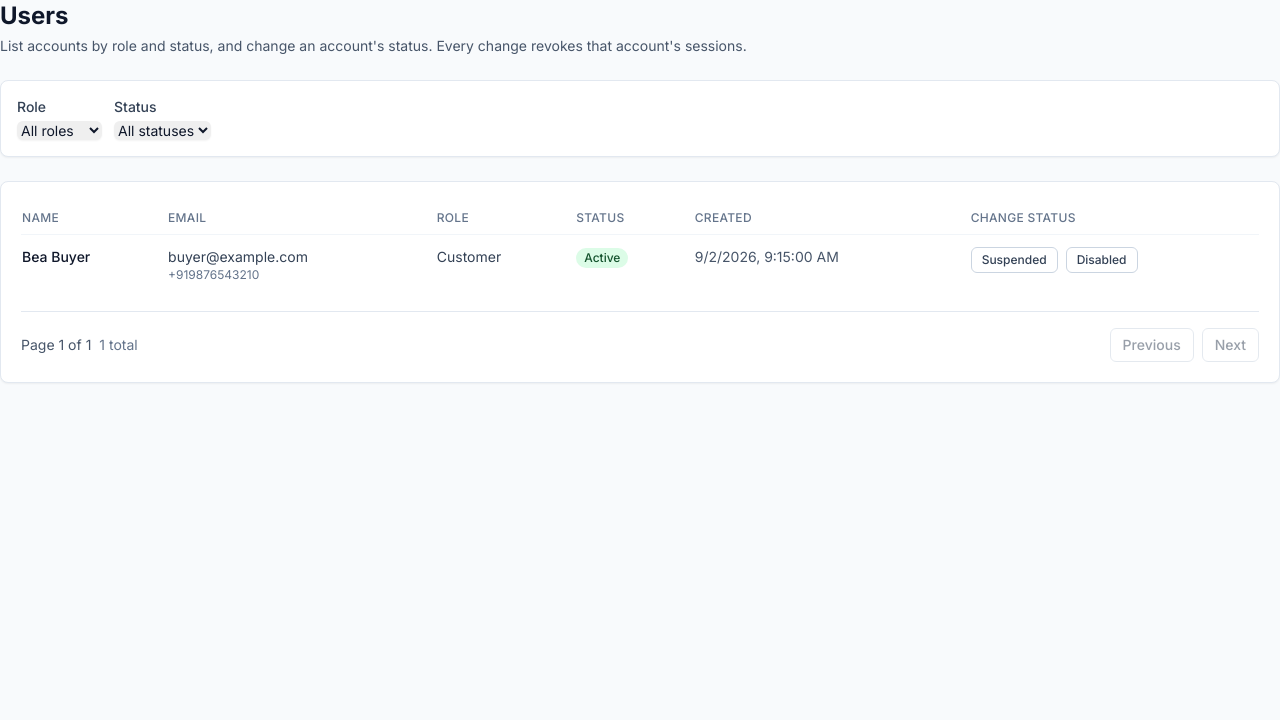
Test: AdminUsersPage › still reports a 403 if a self-targeting change is attempted anyway
Check: the table is shown, box [21,202,1259,295]
Click the button "Suspended" at (1014, 260), box [971,247,1058,273]
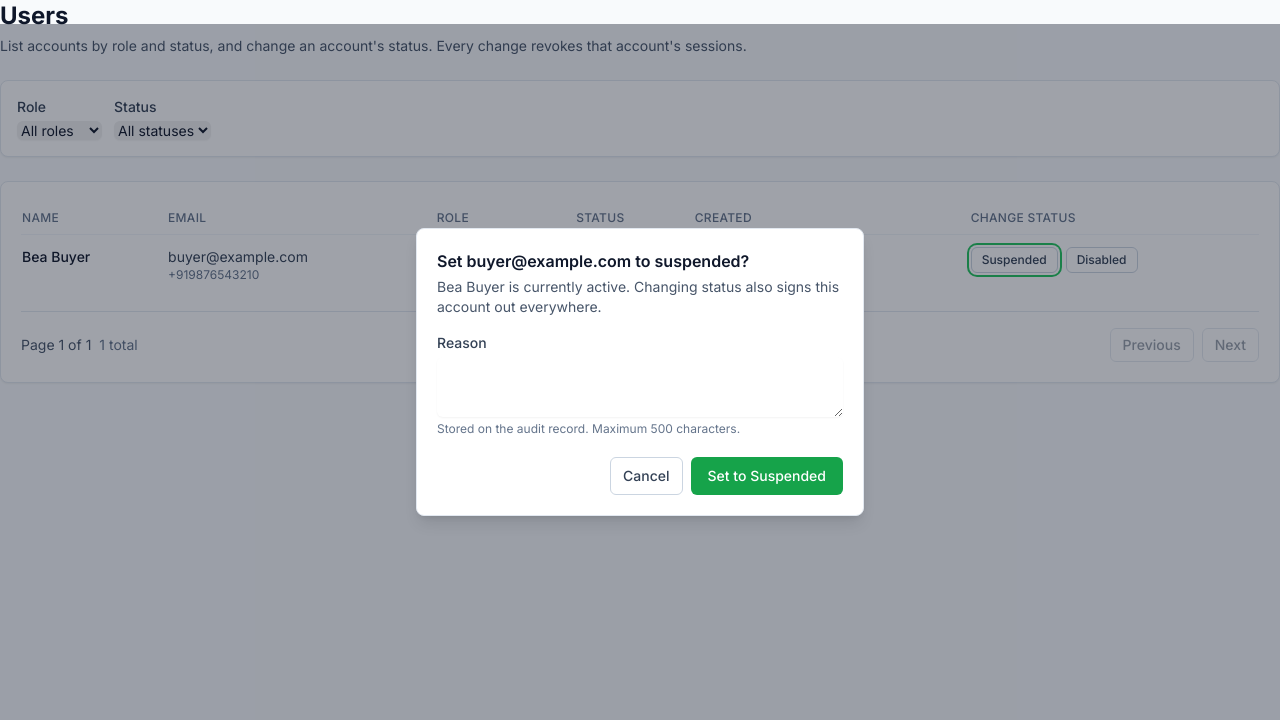
Type "Testing the guard" into the text box labelled "Reason" at (640, 387), box [437,357,843,417]
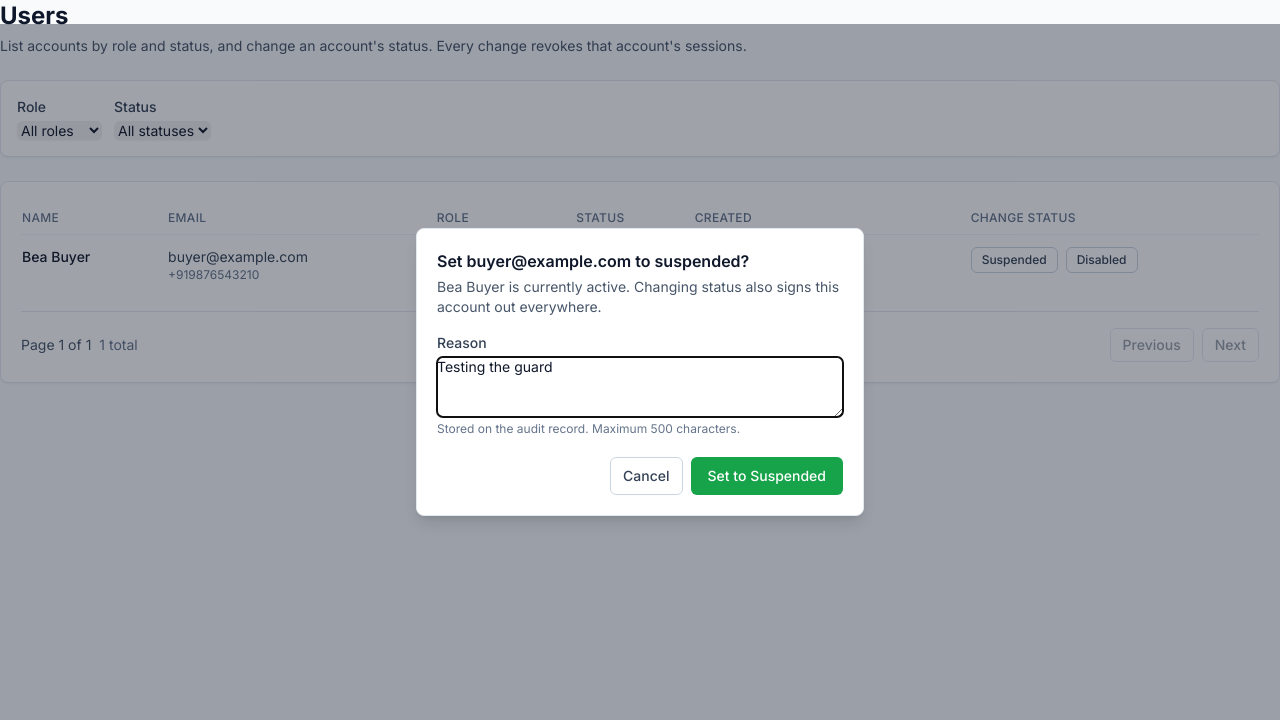
Click the button "Set to Suspended" at (767, 476), box [691,457,843,495]
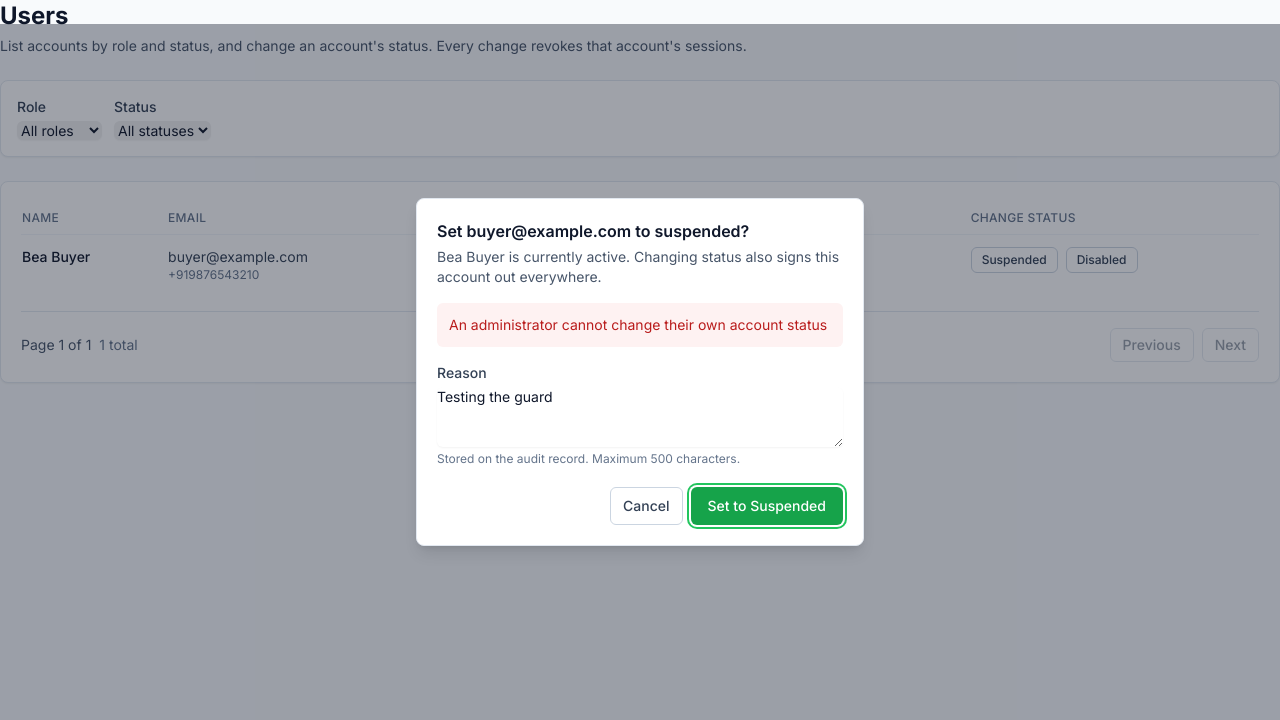
Check: the message reads "An administrator cannot change their own account status", box [449,316,827,333]
